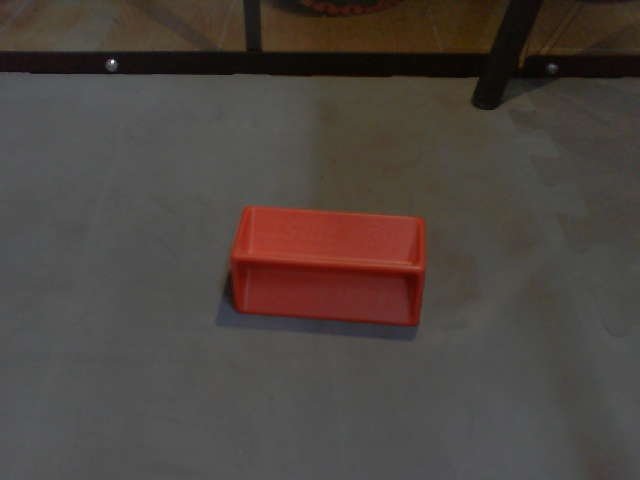RedSample: (229, 205, 428, 330)
